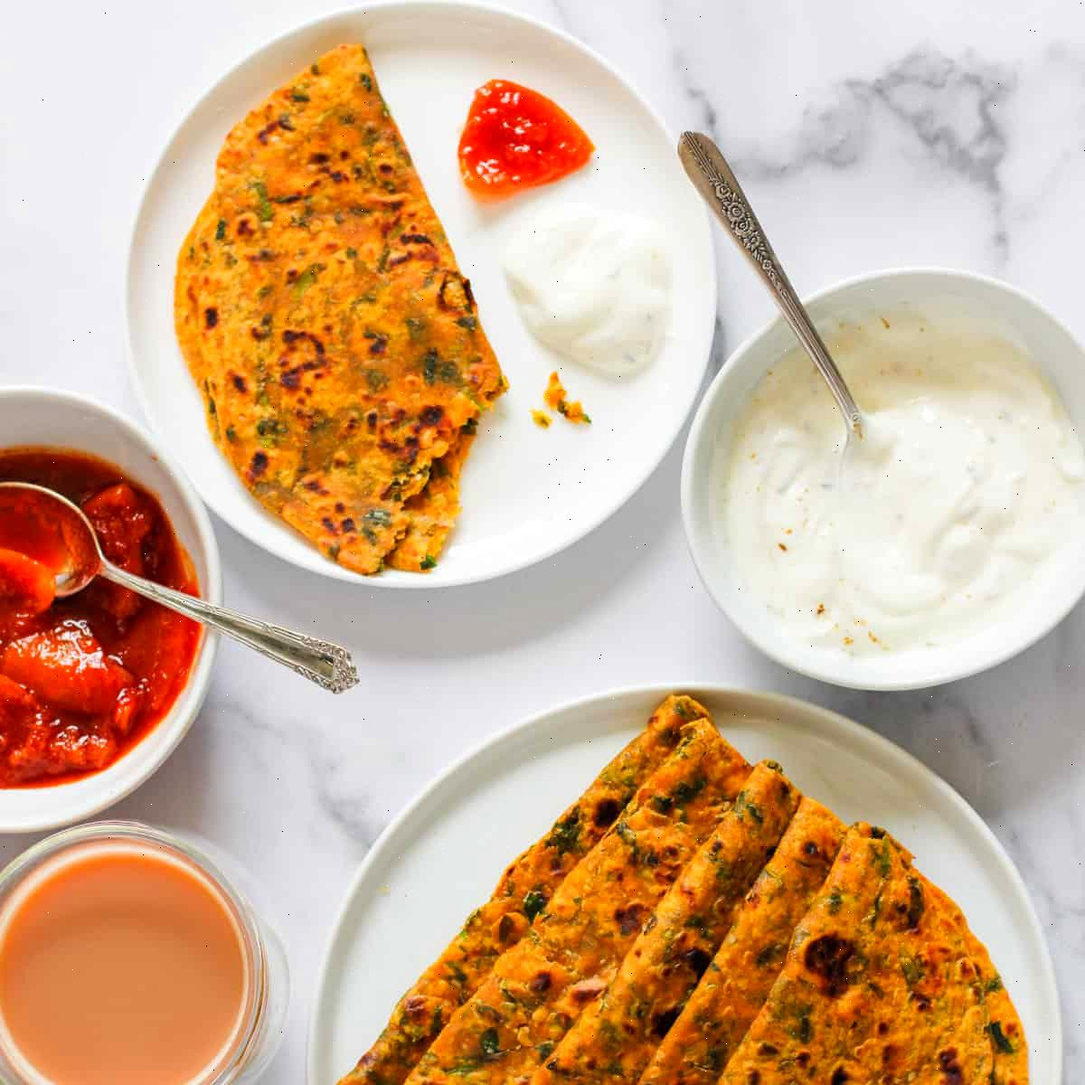thepla: (327, 692, 1025, 1085), (175, 37, 498, 580)
yogurt: (714, 283, 1085, 679)
